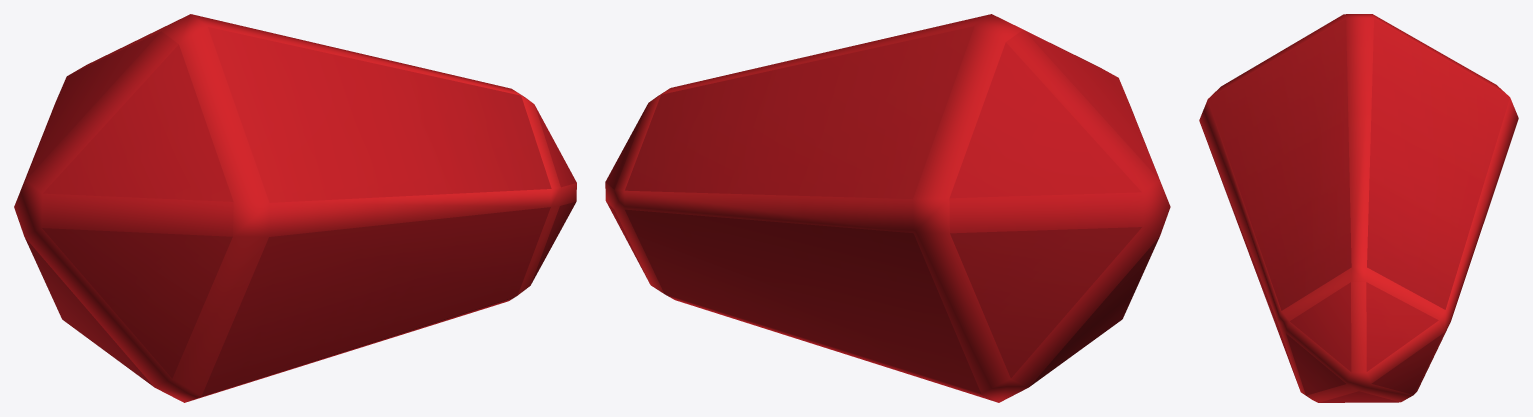
Rendered from christal_ruby_3.fbx.
3 views of the same model, side by side, from view 1: azimuth 30°, elevation 25°; view 2: azimuth 150°, elevation 25°; view 3: azimuth 270°, elevation 25° (orthographic). The views are drawn at different scales.
Parts seen in each view (by area): view 1: christal_ruby_3; view 2: christal_ruby_3; view 3: christal_ruby_3.
Part boxes in pixels (x1=…): christal_ruby_3: x1=14, y1=14, x2=576, y2=402; christal_ruby_3: x1=605, y1=14, x2=1170, y2=402; christal_ruby_3: x1=1199, y1=14, x2=1518, y2=402.
Bounding box in the file's own units: 69.47 × 39.84 × 42.77.
1 material, 1 textured.
